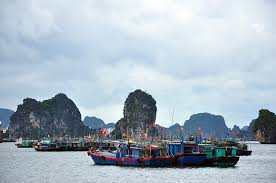tau_dansu: (85, 138, 172, 167), (203, 136, 245, 168), (168, 134, 205, 168), (33, 139, 63, 151), (14, 136, 36, 149)
